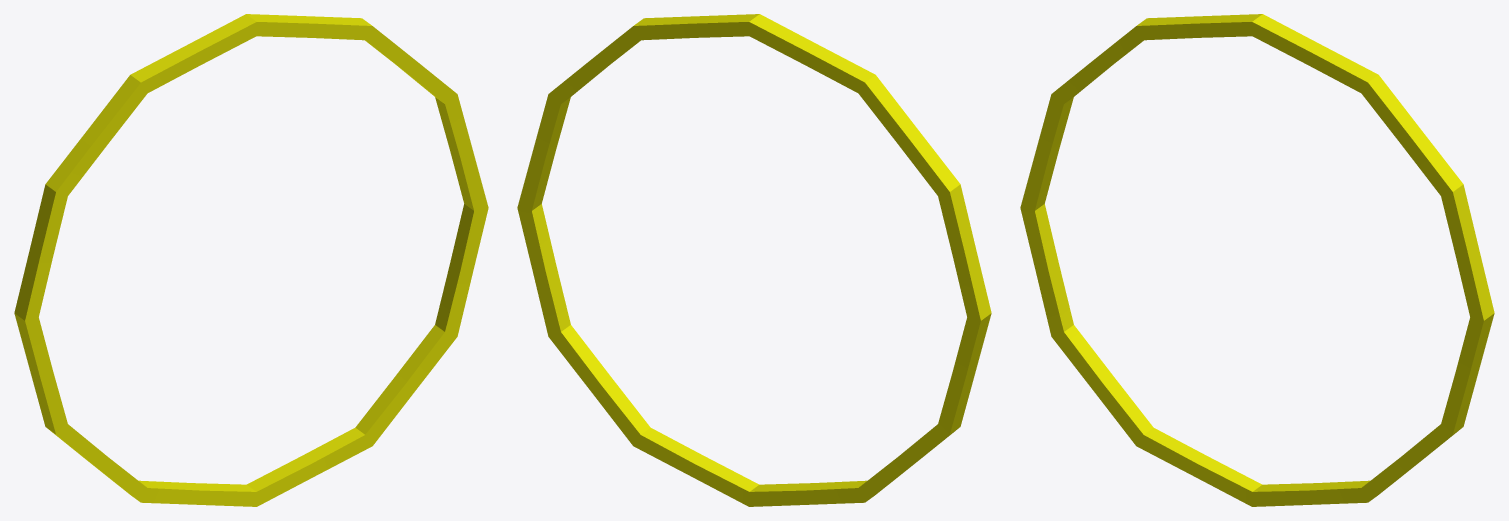
File: SM_Prop_Plane_Ring_01.glb
3 views of the same model, side by side, from view 1: azimuth 30°, elevation 25°; view 2: azimuth 150°, elevation 25°; view 3: azimuth 330°, elevation 25° (orthographic).
Parts seen in each view (by area): view 1: SM_Prop_Plane_Ring_01; view 2: SM_Prop_Plane_Ring_01; view 3: SM_Prop_Plane_Ring_01.
Boxes of the visible parts, x1=… form: SM_Prop_Plane_Ring_01: x1=14, y1=14, x2=488, y2=506; SM_Prop_Plane_Ring_01: x1=517, y1=14, x2=991, y2=506; SM_Prop_Plane_Ring_01: x1=1020, y1=14, x2=1494, y2=506.
Size of the model in its own units: 17.38 by 17.38 by 0.695.
Materials: 1 (1 with a texture image).
